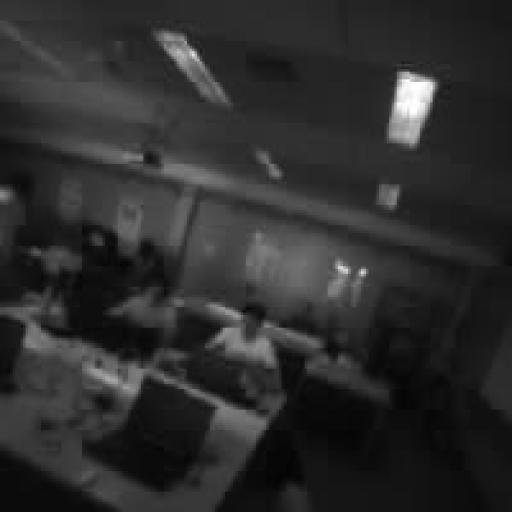human: (208, 303, 281, 396), (105, 272, 176, 358), (0, 169, 33, 261)
